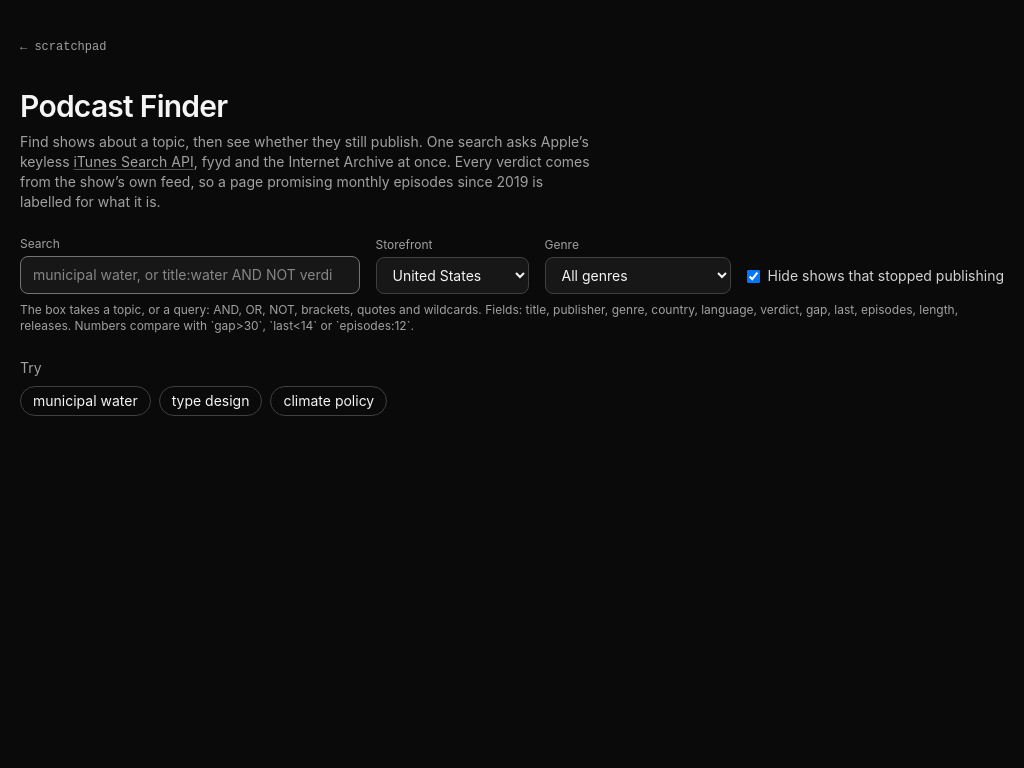
PodcastFinderPage › loads the rest of a publisher catalogue on request
This screenshot has width=1024, height=768.
In the search field labelled "Search": (190, 275) [20, 256, 360, 294], type "drain"
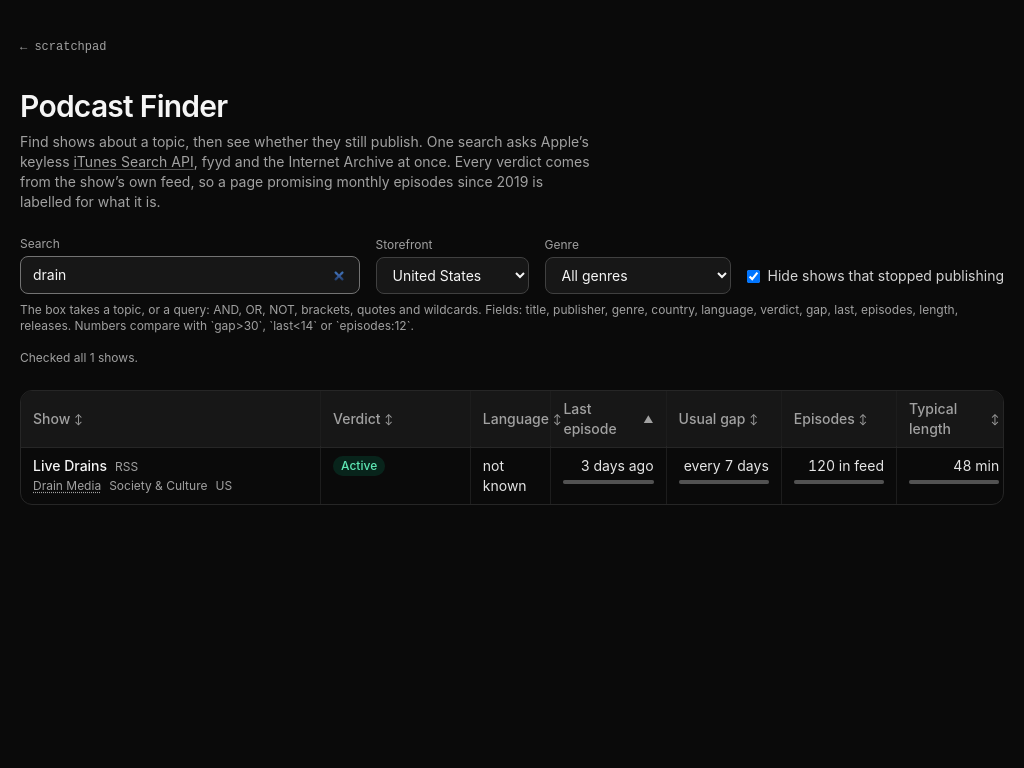
Expected: the link "Live Drains" is shown, [33, 456, 107, 476]
Click the button "Drain Media": (67, 486) [33, 478, 101, 494]
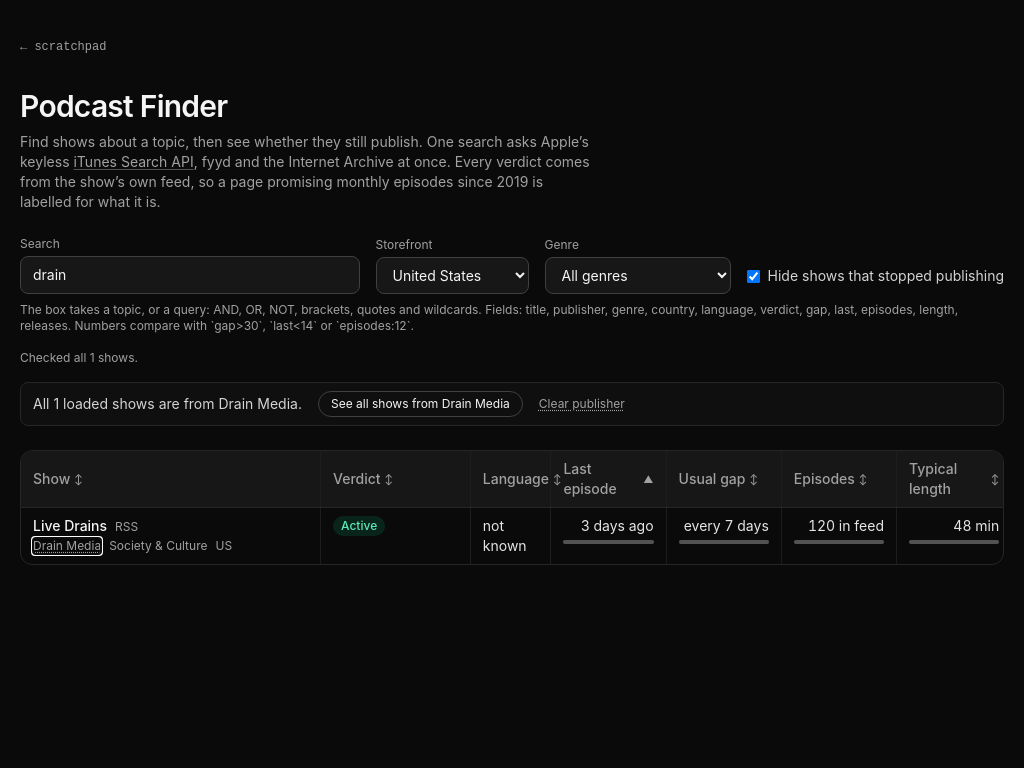
Click the button "See all shows from Drain Media": (420, 404) [318, 391, 523, 417]
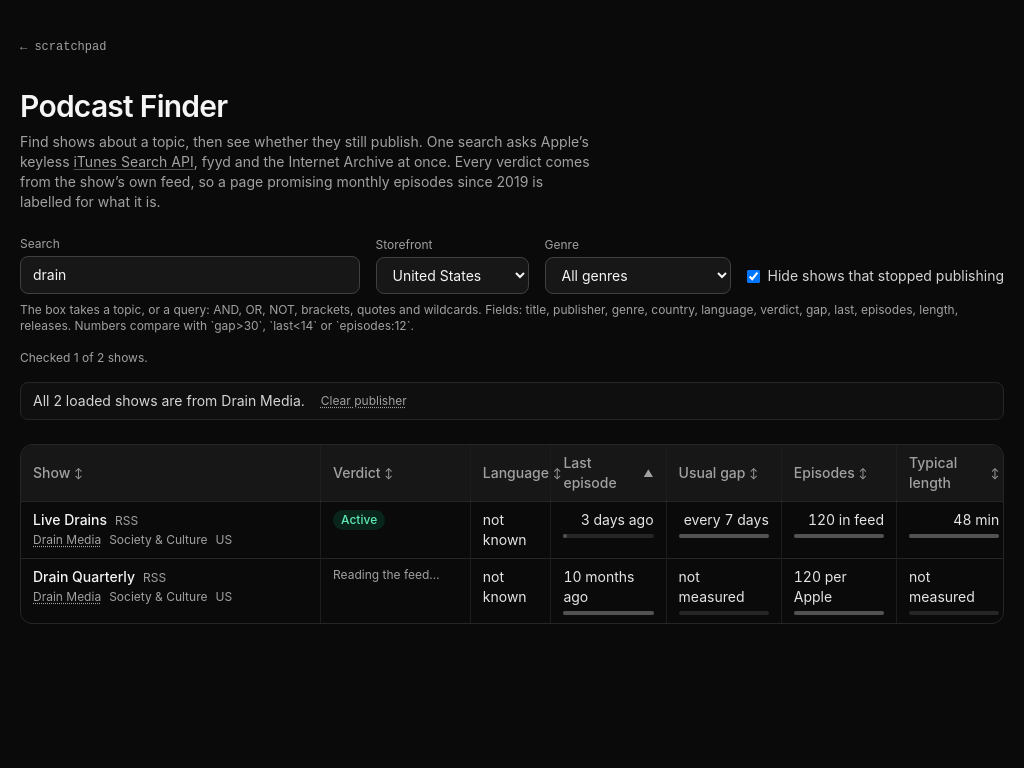
Expected: the link "Drain Quarterly" is shown, [33, 567, 135, 587]
Expected: the text "All 2 loaded shows are from Drain Media." is shown, [33, 391, 305, 411]
